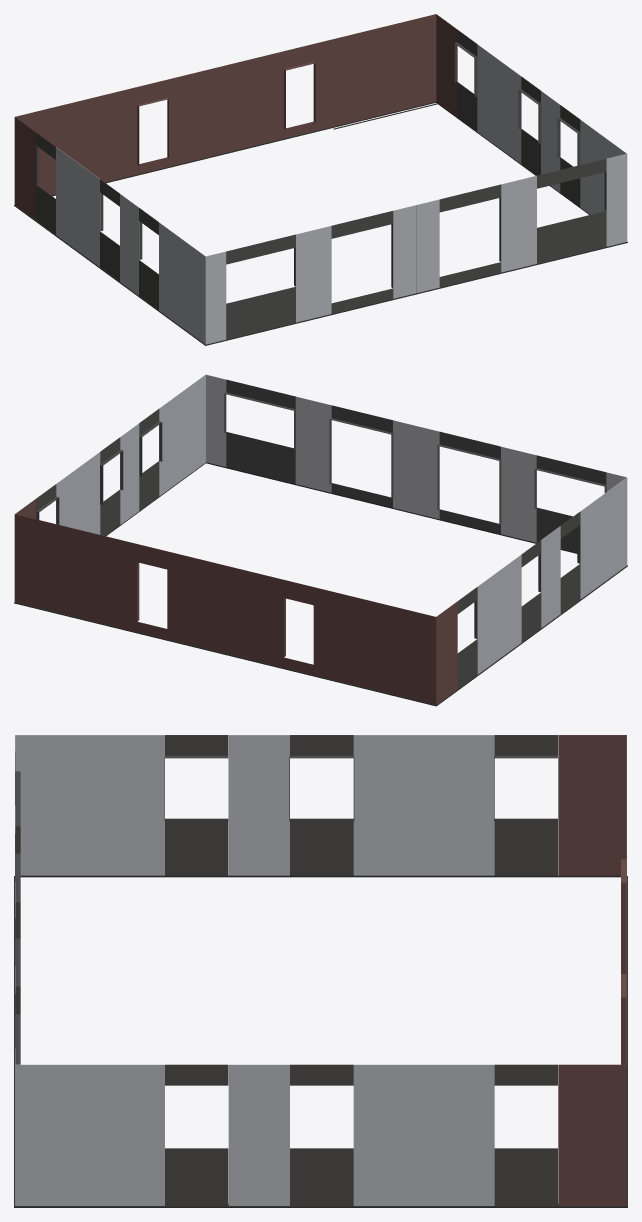
File: Fassaadi_viimistlus_C_2K.glb
3 renders of one model, top to bottom at view 1: azimuth 30°, elevation 25°; view 2: azimuth 150°, elevation 25°; view 3: azimuth 270°, elevation 25°, orthographic. The views are drawn at different scales.
Parts seen in each view (by area): view 1: Kiudtsementplaat_106 (×2), Kiudtsementplaat_107 (×2), Veeplekk_elementide_vahel_197; view 2: Kiudtsementplaat_106 (×2), Kiudtsementplaat_107 (×2), Veeplekk_elementide_vahel_197; view 3: Kiudtsementplaat_106 (×2), Veeplekk_elementide_vahel_193 (×2), Kiudtsementplaat_107 (×2).
Boxes of the visible parts, x1,y1,x2,y2 form: Kiudtsementplaat_106 (×2): (14, 14, 627, 344); Kiudtsementplaat_107 (×2): (206, 153, 626, 344); Veeplekk_elementide_vahel_197: (52, 102, 435, 196); Kiudtsementplaat_106 (×2): (14, 374, 627, 704); Kiudtsementplaat_107 (×2): (206, 374, 626, 552); Veeplekk_elementide_vahel_197: (14, 602, 436, 706); Kiudtsementplaat_106 (×2): (15, 735, 626, 1205); Veeplekk_elementide_vahel_193 (×2): (14, 875, 627, 1207); Kiudtsementplaat_107 (×2): (15, 735, 20, 1064).
Bounding box in the file's own units: 15.65 × 3.15 × 12.29.
